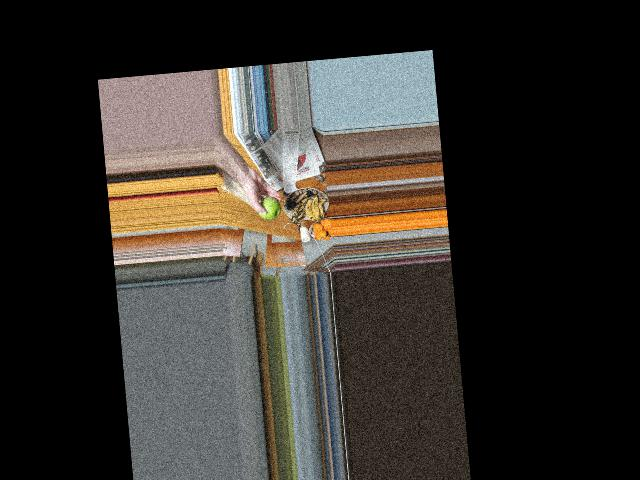apple: (255, 192, 282, 222)
